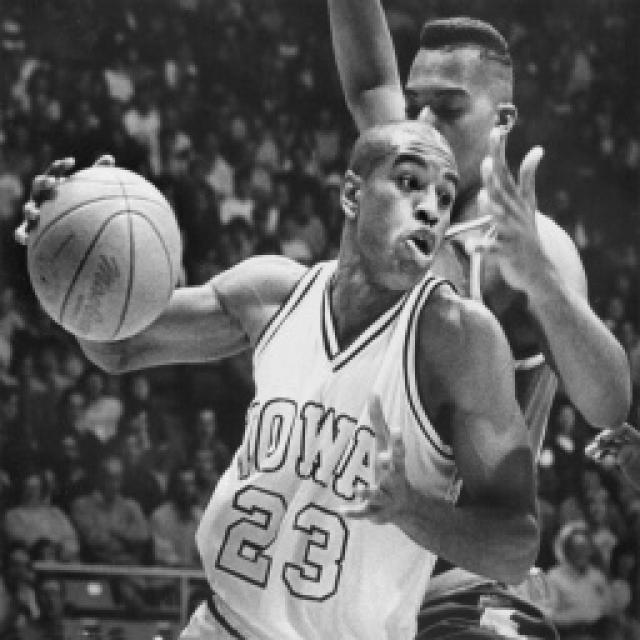rim: (17, 157, 194, 348)
